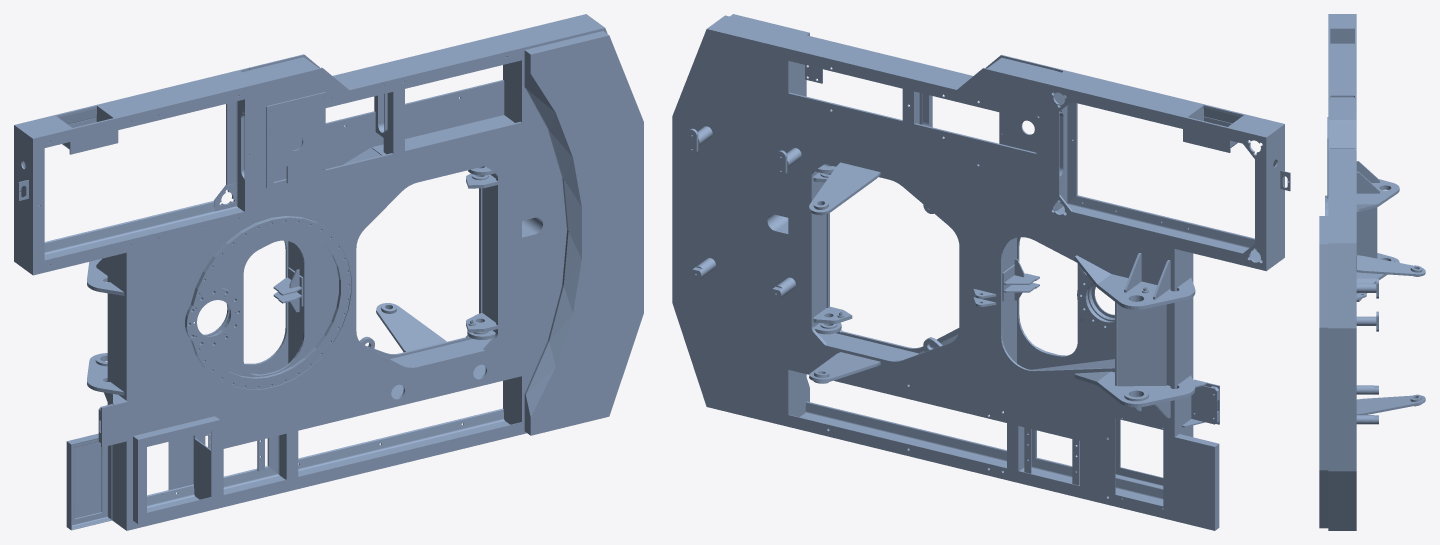
The model's file is tml_frame.glb.
3 renders of one model, left to right at view 1: azimuth 30°, elevation 25°; view 2: azimuth 150°, elevation 25°; view 3: azimuth 270°, elevation 25°, orthographic. The views are drawn at different scales.
Visible parts, largest first — view 1: part_12, part_11, part_0, part_2, part_1, part_76, part_13, part_15, part_4, part_74, part_5, part_56 (+23 smaller); view 2: part_1, part_0, part_2, part_4, part_13, part_15, part_71, part_5, part_43, part_12, part_28, part_14 (+17 smaller); view 3: part_0, part_11, part_13, part_4, part_9, part_42, part_65, part_66, part_41, part_23, part_40, part_53 (+6 smaller).
Boxes of the visible parts, left/top/right/bottom form: part_12: left=129, top=121, right=521, bottom=449; part_11: left=524, top=31, right=643, bottom=435; part_0: left=503, top=14, right=607, bottom=434; part_2: left=127, top=408, right=521, bottom=530; part_1: left=193, top=80, right=504, bottom=438; part_76: left=185, top=219, right=350, bottom=389; part_13: left=14, top=70, right=256, bottom=147; part_15: left=33, top=201, right=255, bottom=275; part_4: left=325, top=34, right=521, bottom=107; part_74: left=483, top=157, right=521, bottom=350; part_5: left=107, top=252, right=133, bottom=530; part_56: left=266, top=92, right=325, bottom=188; part_1: left=788, top=92, right=1172, bottom=443; part_0: left=672, top=15, right=806, bottom=426; part_2: left=788, top=401, right=1174, bottom=520; part_4: left=788, top=35, right=1036, bottom=120; part_13: left=1048, top=70, right=1284, bottom=143; part_15: left=1048, top=195, right=1265, bottom=270; part_71: left=788, top=158, right=826, bottom=345; part_5: left=1163, top=248, right=1193, bottom=520; part_43: left=1117, top=301, right=1166, bottom=386; part_12: left=836, top=164, right=1114, bottom=369; part_28: left=1174, top=437, right=1215, bottom=530; part_14: left=1255, top=124, right=1284, bottom=270; part_0: left=1328, top=213, right=1356, bottom=530; part_11: left=1319, top=216, right=1328, bottom=528; part_13: left=1328, top=14, right=1356, bottom=95; part_4: left=1328, top=148, right=1356, bottom=212; part_9: left=1329, top=97, right=1355, bottom=148; part_42: left=1356, top=207, right=1377, bottom=258; part_65: left=1356, top=255, right=1425, bottom=276; part_66: left=1356, top=395, right=1425, bottom=414; part_41: left=1356, top=179, right=1399, bottom=211; part_23: left=1330, top=28, right=1354, bottom=43; part_40: left=1356, top=253, right=1399, bottom=301; part_53: left=1356, top=171, right=1379, bottom=193.
Bounding box in the file's own units: 2.4 × 1.54 × 0.4818.
